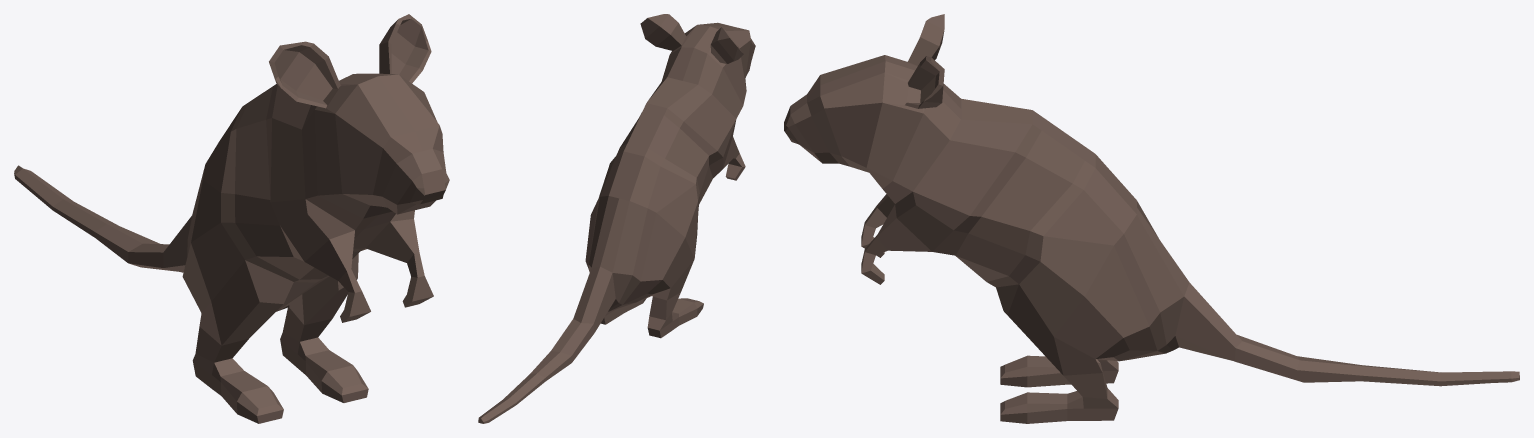
Rendered from Rata.fbx.
3 renders of one model, left to right at view 1: azimuth 30°, elevation 25°; view 2: azimuth 150°, elevation 25°; view 3: azimuth 270°, elevation 25°, orthographic. The views are drawn at different scales.
Visible parts, largest first — view 1: Mouse; view 2: Mouse; view 3: Mouse.
Part boxes in pixels (x1,y1,x2,y2): Mouse: (14, 14, 449, 423); Mouse: (478, 14, 755, 423); Mouse: (784, 14, 1519, 423).
Size of the model in its own units: 6.48 by 16.55 by 30.59.
